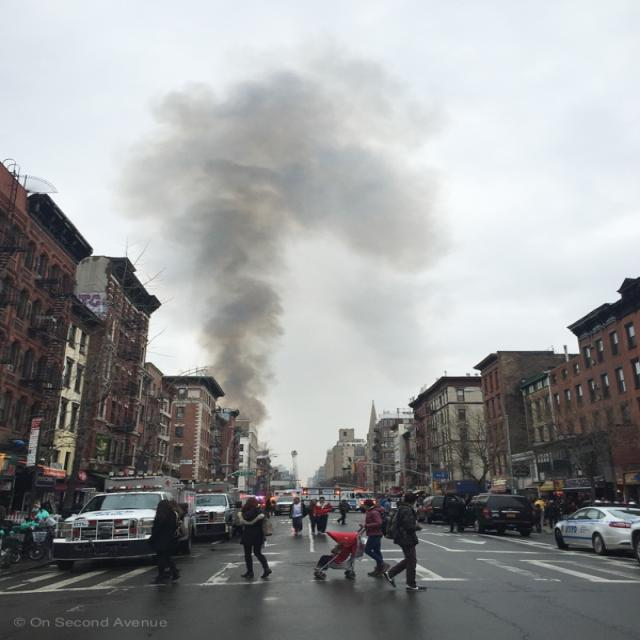body: (378, 491, 428, 594), (144, 498, 185, 584), (233, 495, 273, 579), (358, 497, 392, 578), (0, 501, 61, 522), (314, 540, 346, 572), (444, 493, 468, 532), (311, 496, 334, 536), (288, 496, 307, 537), (225, 502, 243, 540), (307, 498, 322, 536), (591, 494, 637, 505), (545, 498, 559, 530), (335, 498, 350, 526), (532, 496, 546, 526), (532, 504, 543, 530), (376, 494, 392, 510), (562, 500, 579, 513), (170, 498, 181, 516), (265, 497, 274, 518)
